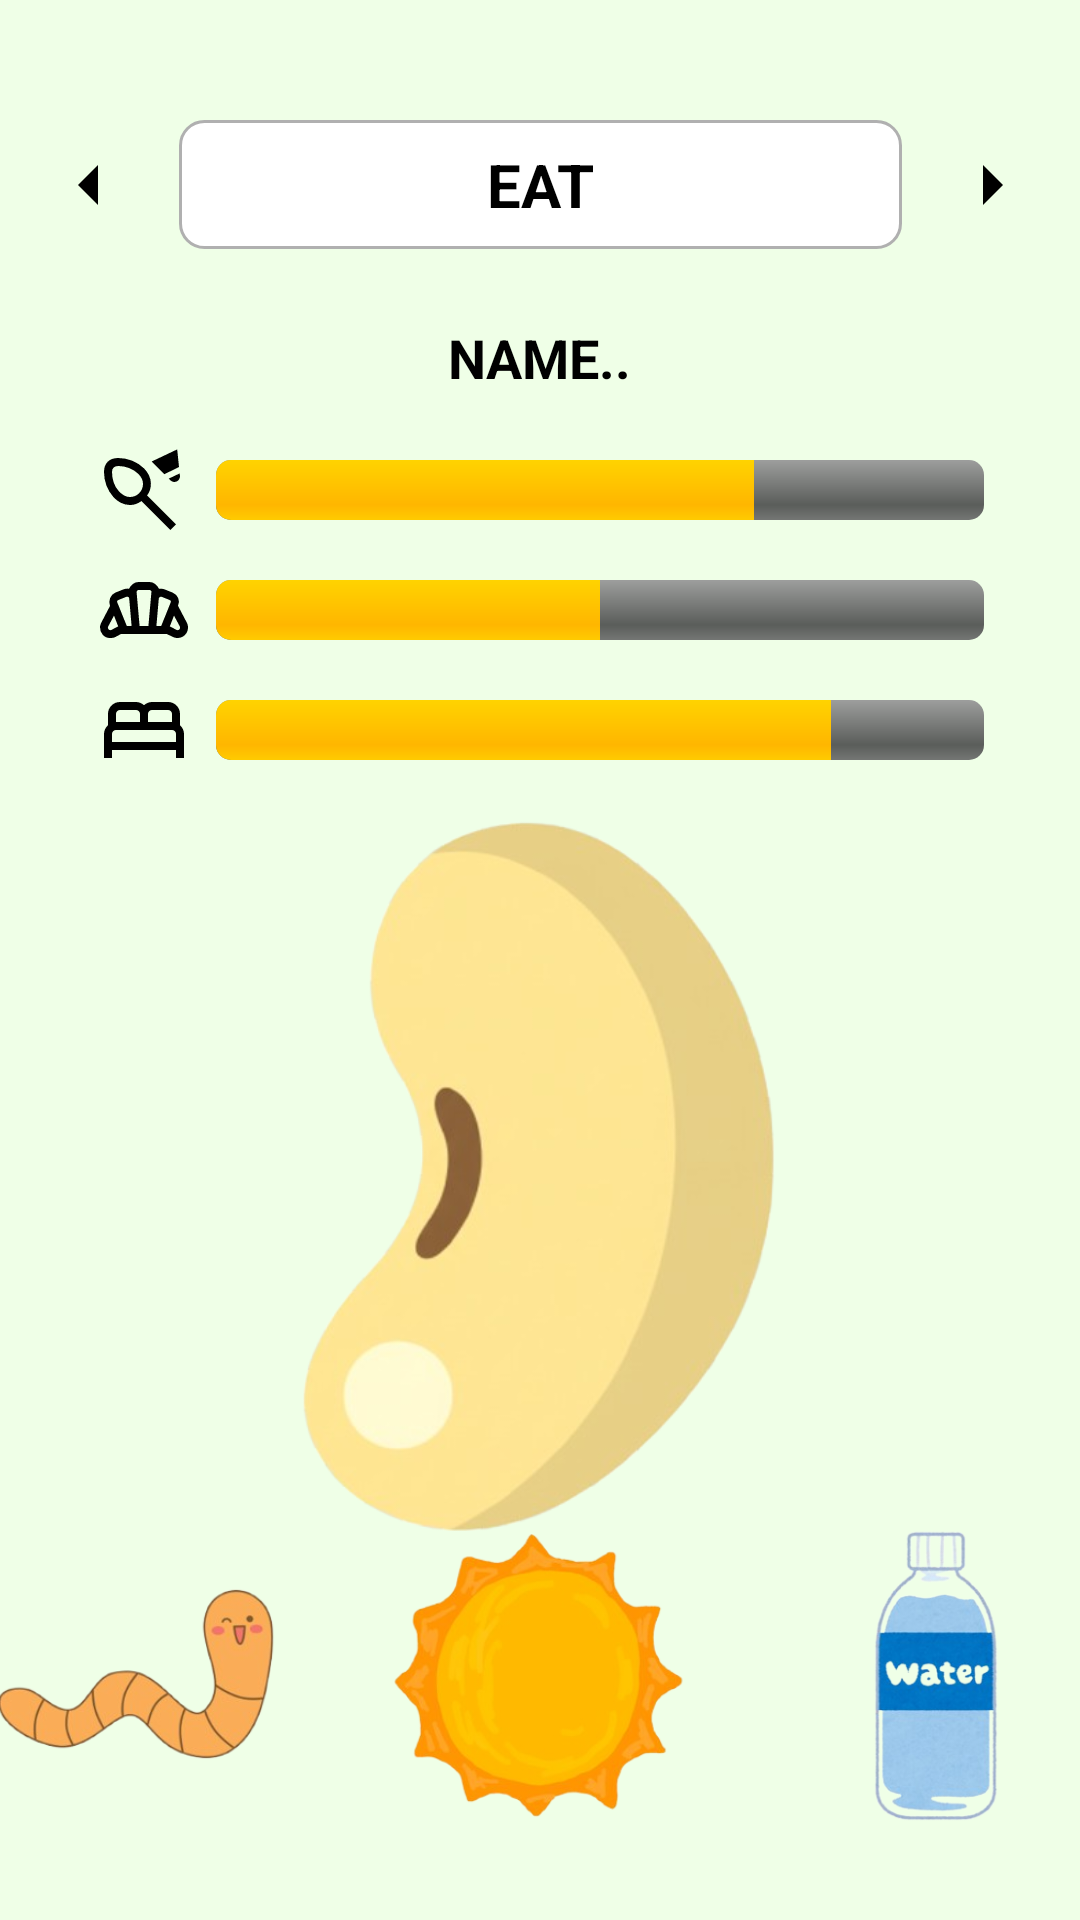

Locate icon controls on the screen. Image size 1080×1920, boxes as BBox(x1, y1, x2, y2).
Eat Sunset: BBox(394, 1534, 683, 1817)
Eat worm: BBox(0, 1590, 274, 1759)
Food Status Icon: BBox(100, 582, 188, 638)
Next Room: BBox(983, 165, 1003, 205)
Play Status Icon: BBox(104, 449, 180, 530)
Previous Room: BBox(78, 165, 98, 205)
Sleep Status Icon: BBox(104, 702, 184, 758)
